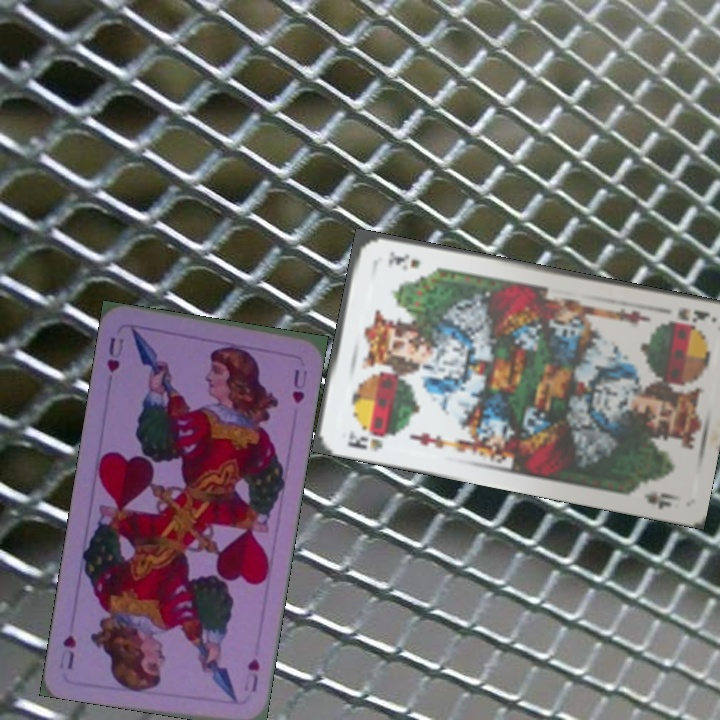HU: (102, 333, 127, 375), (240, 655, 263, 694)
SK: (344, 427, 385, 455), (674, 303, 713, 325)
